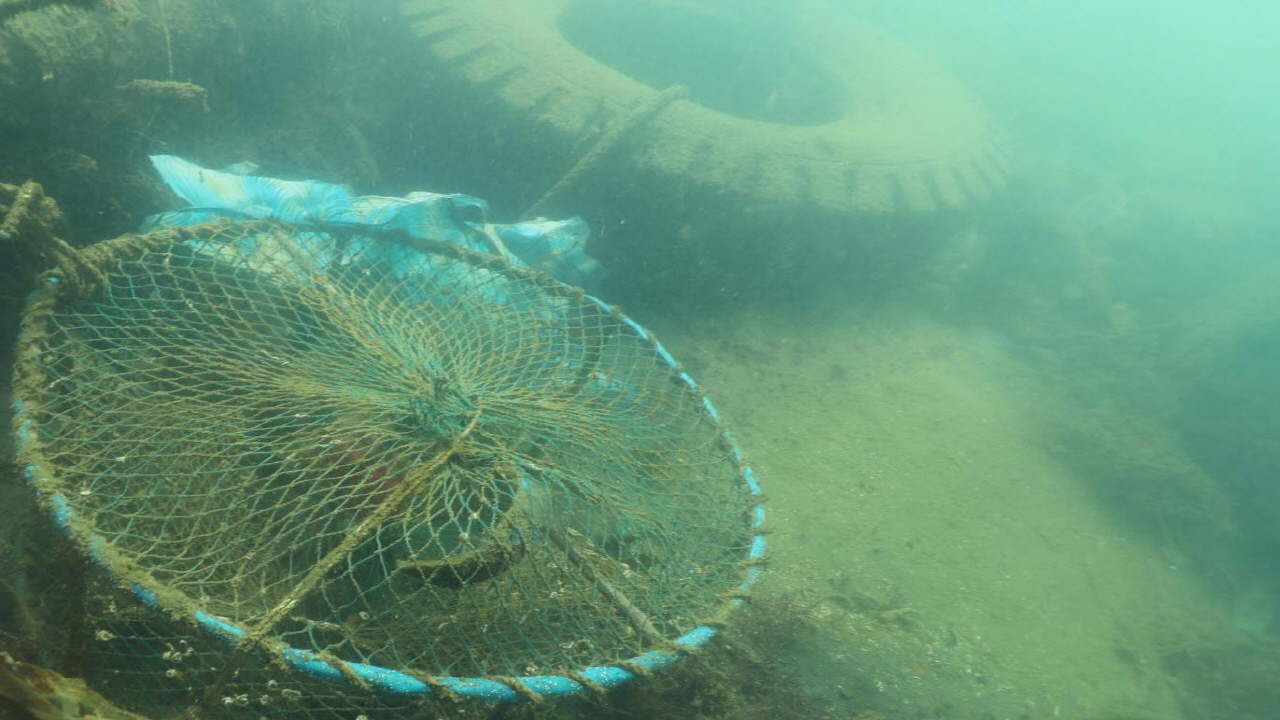circular fish trap: (14, 213, 768, 720)
rope: (523, 80, 693, 217)
tire: (391, 0, 1014, 277)
